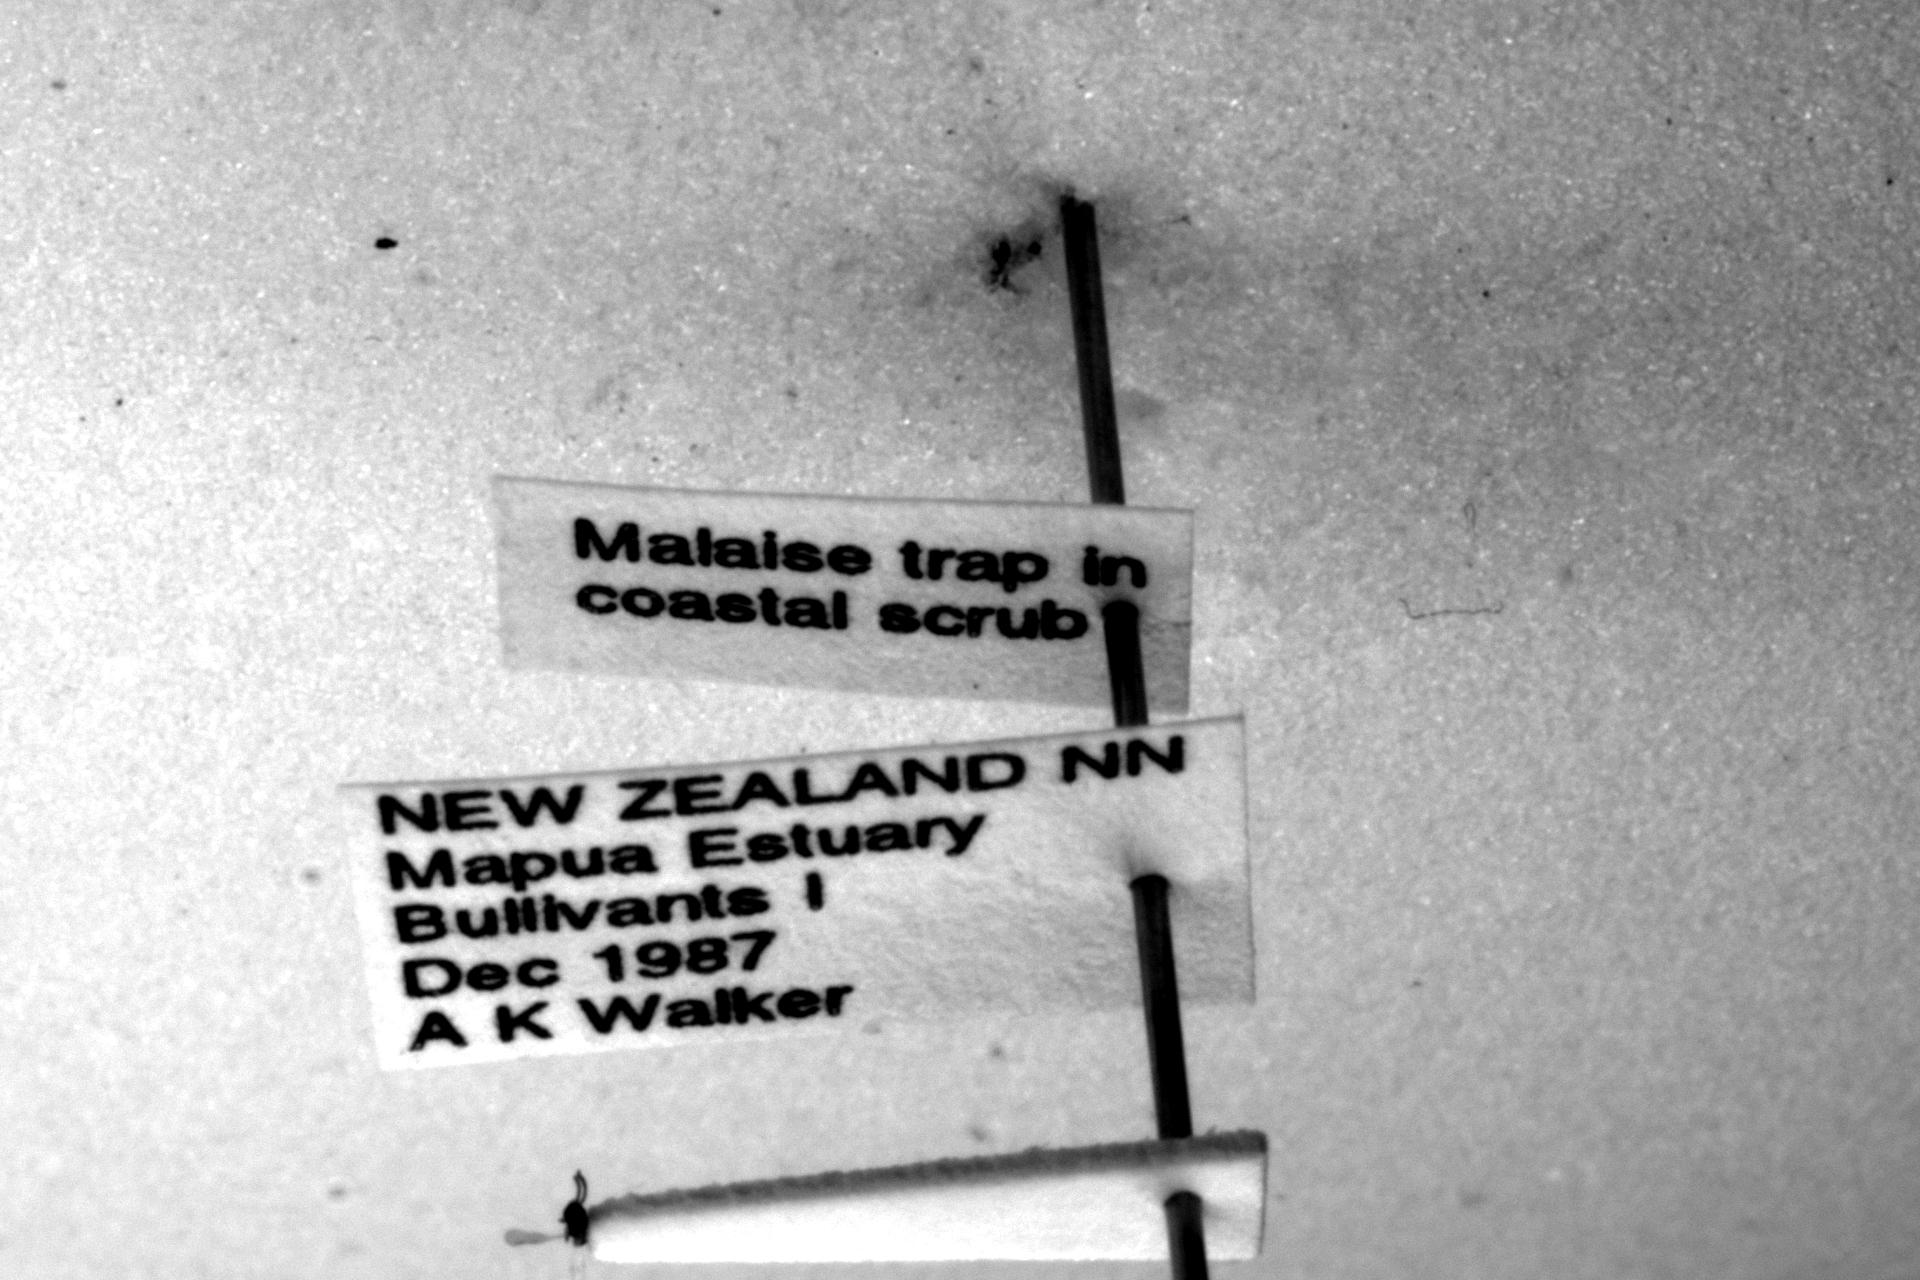typed_label: (341, 716, 1252, 1069), (495, 476, 1192, 716)
